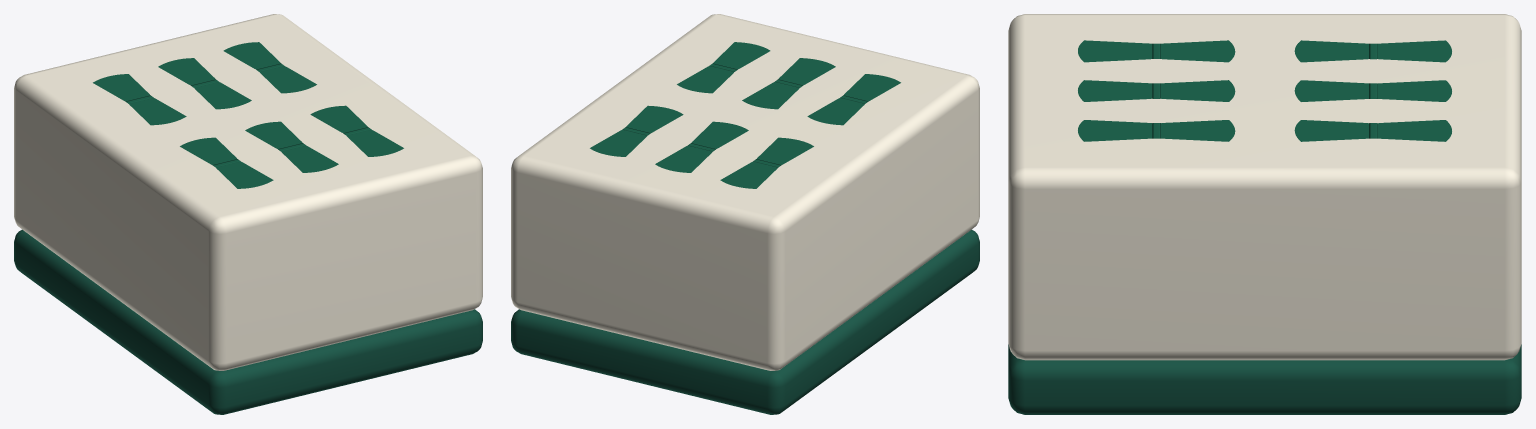
Rendered from suo-06.glb.
3 renders of one model, left to right at view 1: azimuth 30°, elevation 25°; view 2: azimuth 150°, elevation 25°; view 3: azimuth 270°, elevation 25°, orthographic. The views are drawn at different scales.
Parts seen in each view (by area): view 1: suo-06_ivory, suo-06_back, suo-06_face_inlays; view 2: suo-06_ivory, suo-06_back, suo-06_face_inlays; view 3: suo-06_ivory, suo-06_back, suo-06_face_inlays.
Part boxes in pixels (x1,y1,x2,y2): suo-06_ivory: [14, 14, 482, 370]; suo-06_back: [14, 229, 482, 414]; suo-06_face_inlays: [93, 42, 403, 188]; suo-06_ivory: [511, 14, 979, 370]; suo-06_back: [511, 229, 979, 414]; suo-06_face_inlays: [590, 42, 900, 188]; suo-06_ivory: [1008, 14, 1521, 360]; suo-06_back: [1008, 344, 1521, 414]; suo-06_face_inlays: [1078, 40, 1451, 141].
Size of the model in its own units: 0.026 by 0.018 by 0.034.
